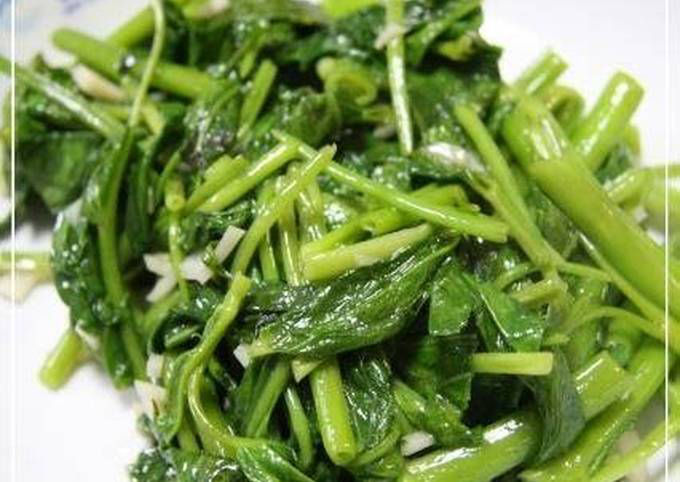Kangkung: (98, 72, 657, 477)
